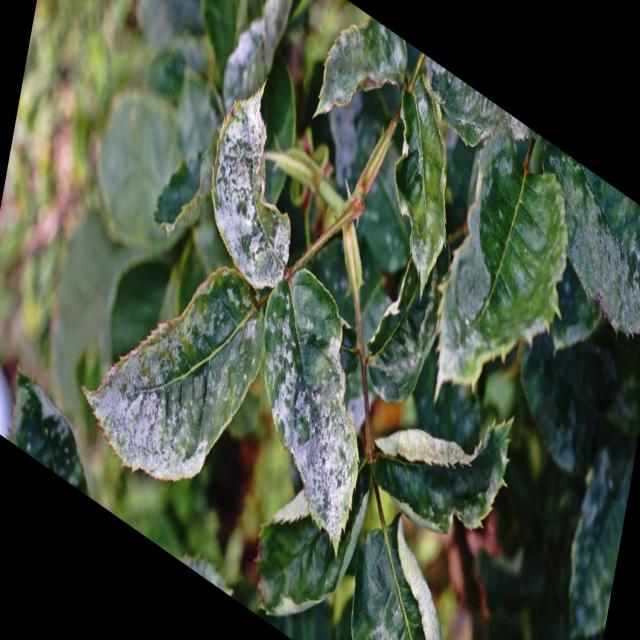Powdery Mildew: (262, 271, 360, 558), (89, 359, 221, 511), (210, 78, 291, 291)
